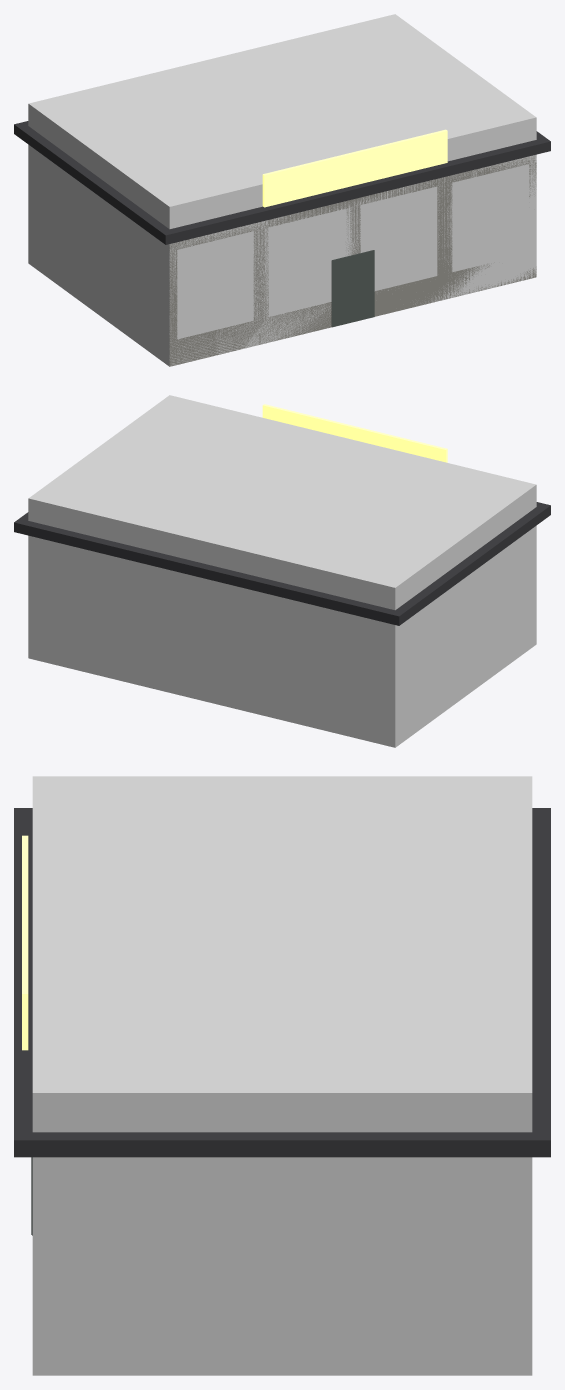
The model's file is shop_pavilion.glb.
The picture shows the model from 3 angles, top to bottom: view 1: azimuth 30°, elevation 25°; view 2: azimuth 150°, elevation 25°; view 3: azimuth 270°, elevation 25°; orthographic projection. The views are drawn at different scales.
Visible parts, largest first — view 1: shop_pavilion-col, shopfront, roof, sign_board, door; view 2: shop_pavilion-col, roof, sign_board; view 3: shop_pavilion-col, roof, sign_board.
Part boxes in pixels (<box>): shop_pavilion-col: <box>28,14,536,366</box>; shopfront: <box>169,155,536,366</box>; roof: <box>14,121,550,244</box>; sign_board: <box>262,129,447,207</box>; door: <box>331,250,374,327</box>; shop_pavilion-col: <box>28,395,536,747</box>; roof: <box>14,502,550,625</box>; sign_board: <box>262,404,447,462</box>; shop_pavilion-col: <box>32,776,532,1375</box>; roof: <box>14,808,550,1157</box>; sign_board: <box>22,835,28,1050</box>.
Bounding box in the file's own units: 12.6 × 5.35 × 8.6.
